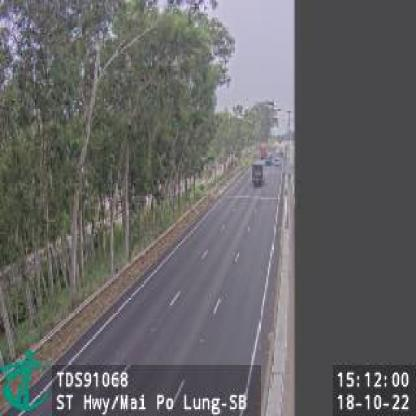Bus: (252, 160, 265, 186)
